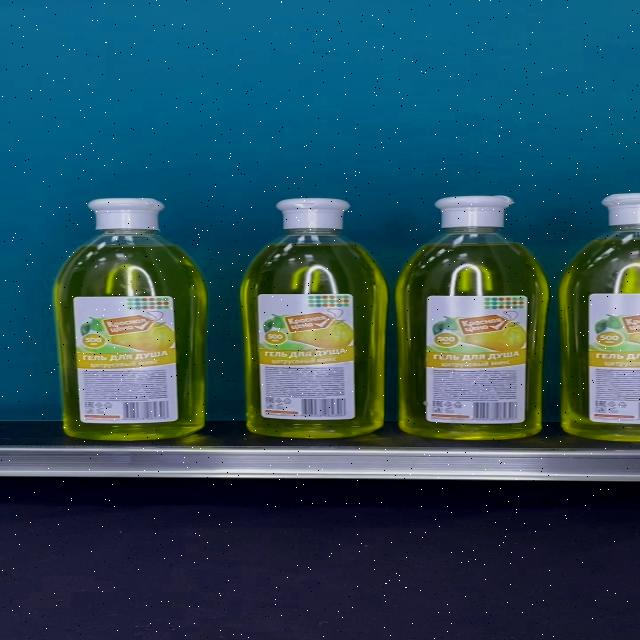Bottle: (396, 195, 549, 440), (55, 197, 206, 441), (240, 198, 388, 439)
Cap: (434, 196, 516, 230), (86, 197, 166, 230), (274, 198, 351, 230)
